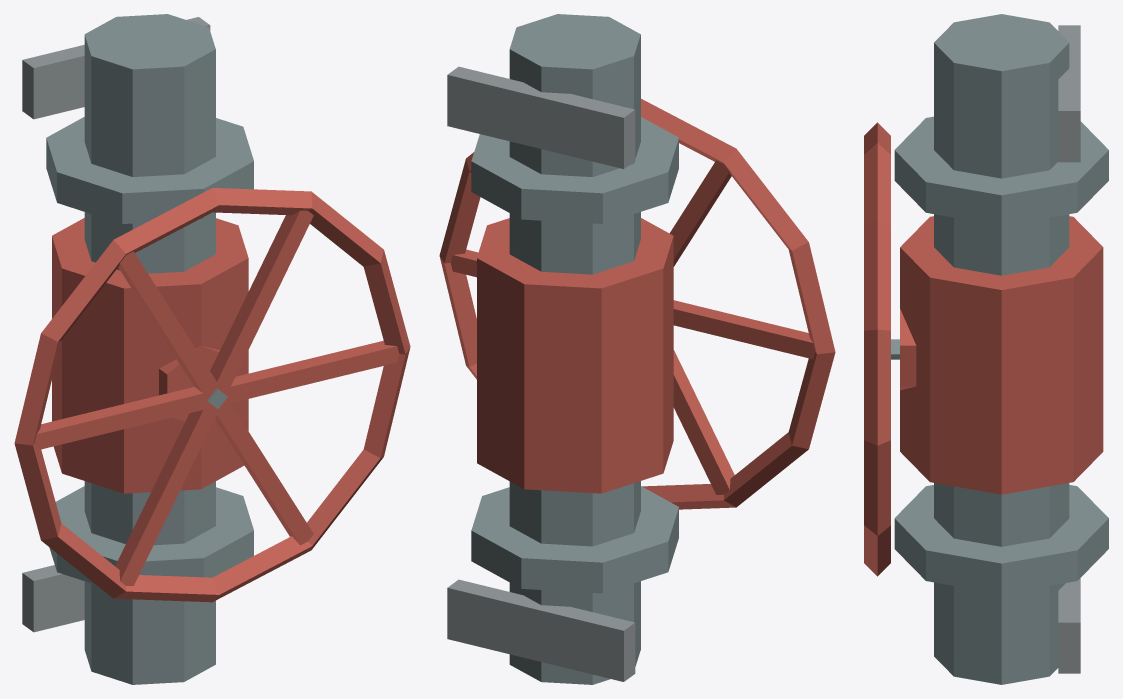
Rendered from kit_valve_wheel.fbx.
3 views of the same model, side by side, from view 1: azimuth 30°, elevation 25°; view 2: azimuth 150°, elevation 25°; view 3: azimuth 270°, elevation 25° (orthographic).
Visible parts, largest first — view 1: kit_valve_wheel; view 2: kit_valve_wheel; view 3: kit_valve_wheel.
Boxes of the visible parts, x1=… form: kit_valve_wheel: x1=14, y1=14, x2=410, y2=684; kit_valve_wheel: x1=439, y1=14, x2=835, y2=684; kit_valve_wheel: x1=864, y1=14, x2=1108, y2=684.
Bounding box in the file's own units: 0.404 × 0.6 × 0.217.
